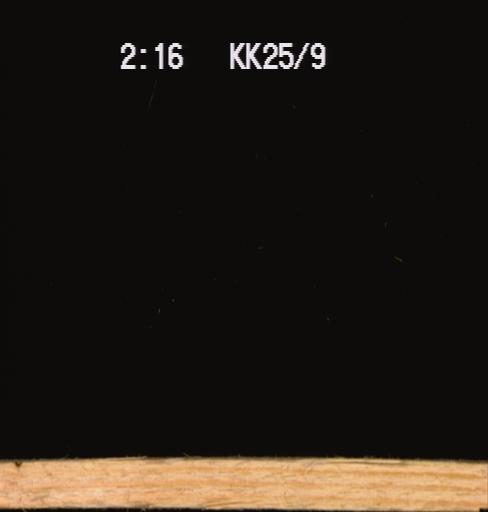edge_knot: (9, 457, 31, 474)
